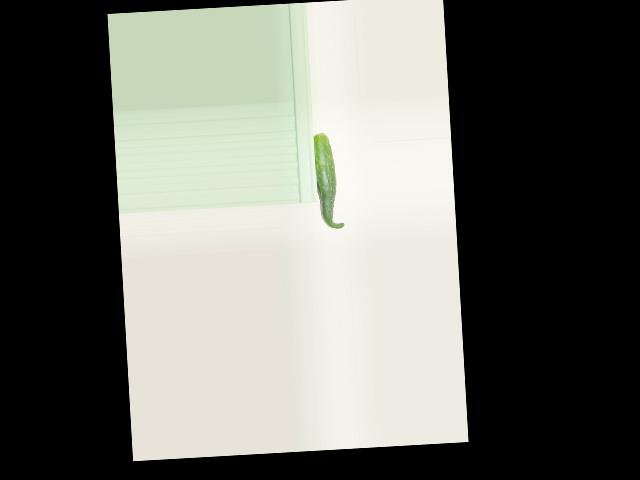cucumber: (313, 132, 344, 230)
